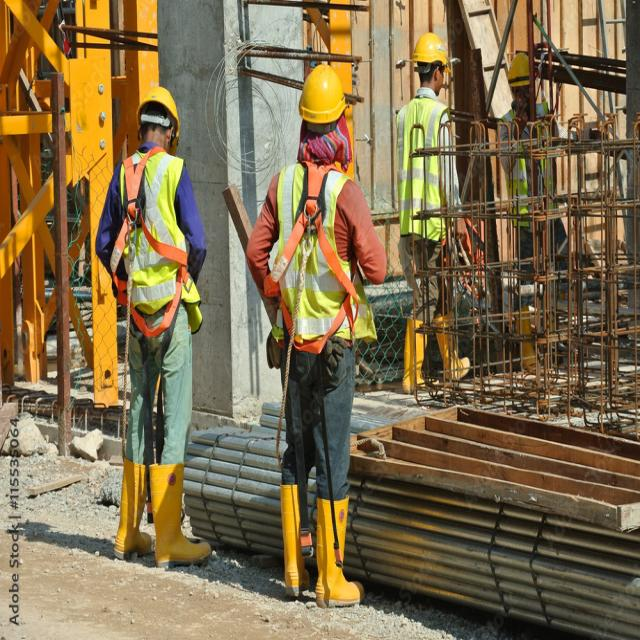boots: (148, 460, 213, 566), (314, 493, 366, 607), (275, 484, 311, 597), (115, 459, 152, 558), (435, 312, 470, 382), (403, 318, 434, 392)
helmet: (299, 62, 348, 126), (134, 83, 183, 143), (412, 30, 448, 70)
vest: (278, 154, 369, 339), (119, 144, 191, 318), (394, 99, 454, 243)
